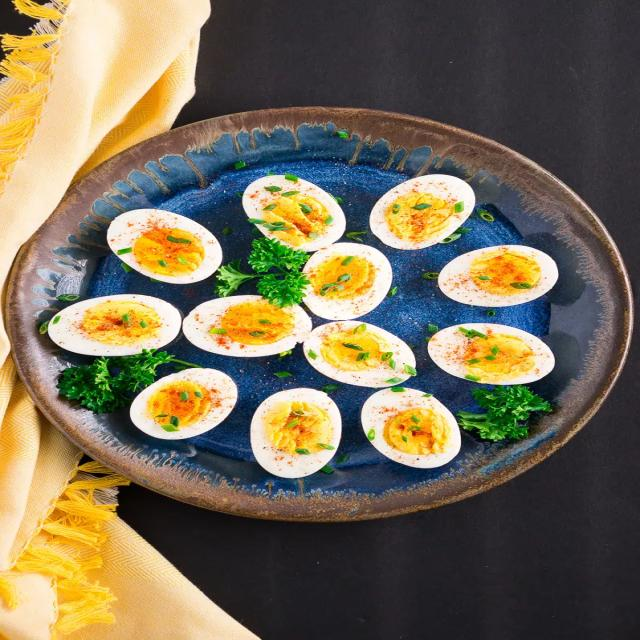boiled egg: (107, 209, 222, 284), (251, 388, 342, 478), (48, 295, 181, 356), (183, 295, 312, 357), (361, 388, 460, 468), (370, 175, 475, 250), (243, 174, 345, 251), (429, 323, 554, 385), (303, 320, 416, 388), (131, 368, 237, 439), (438, 245, 558, 307), (303, 243, 392, 320)
